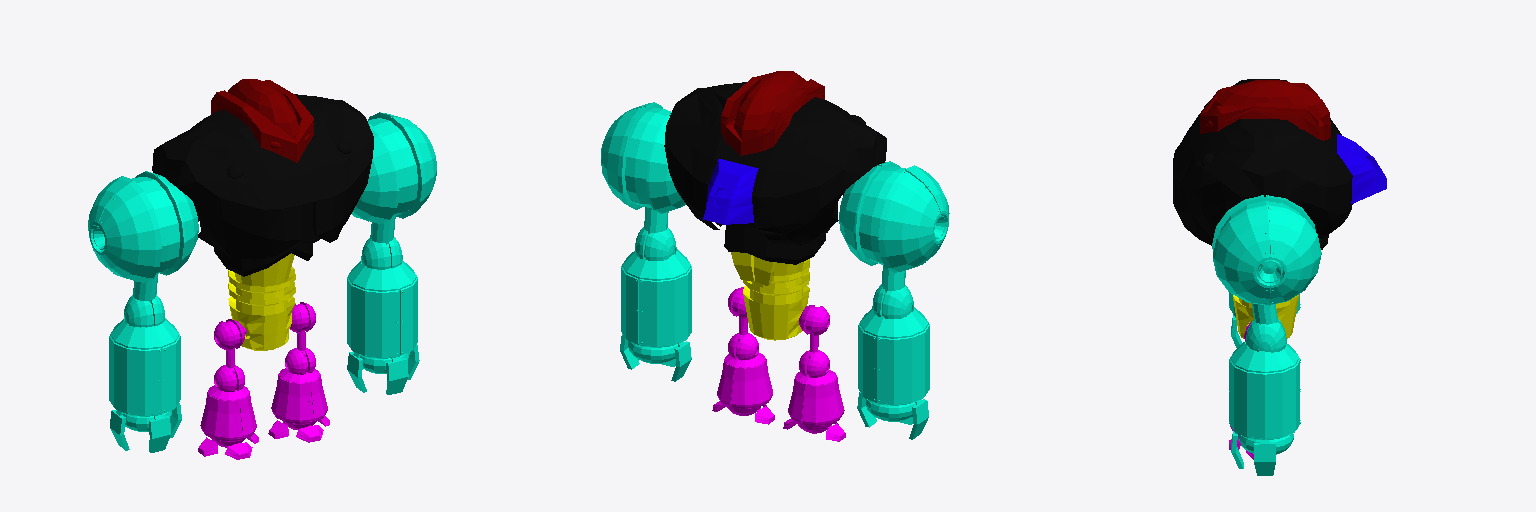
File: Robot_uv_paint_ready_1.obj
3 renders of one model, left to right at view 1: azimuth 30°, elevation 25°; view 2: azimuth 150°, elevation 25°; view 3: azimuth 270°, elevation 25°, orthographic.
Visible parts, largest first — view 1: Torso pCube3, arm2 pasted__pSphere16, arm3 pasted__pSphere16, arm2 pasted__pCylinder4, arm3 pasted__pCylinder4, lowerbody pasted__pCylinder11, pCube53 Head, legs pasted__pCylinder12, legs pasted__pCylinder8, Head pSphere1, Torso pPipe2, arm2 pasted__pSphere7 (+7 smaller); view 2: Torso pCube3, arm2 pasted__pSphere16, arm3 pasted__pSphere16, arm2 pasted__pCylinder4, arm3 pasted__pCylinder4, lowerbody pasted__pCylinder11, pCube53 Head, jetpack pCube4, Head pSphere1, legs pasted__pCylinder12, legs pasted__pCylinder8, Torso pPipe2 (+7 smaller); view 3: Torso pCube3, arm3 pasted__pSphere16, arm3 pasted__pCylinder4, pCube53 Head, Head pSphere1, jetpack pCube4, lowerbody pasted__pCylinder11, arm3 pasted__pSphere7, arm3 pasted__pCube20.
Boxes of the visible parts, x1,y1,x2,y2 form: Torso pCube3: [152, 94, 373, 259]; arm2 pasted__pSphere16: [88, 171, 198, 282]; arm3 pasted__pSphere16: [352, 112, 436, 223]; arm2 pasted__pCylinder4: [109, 318, 180, 416]; arm3 pasted__pCylinder4: [347, 260, 417, 358]; lowerbody pasted__pCylinder11: [228, 253, 295, 350]; pCube53 Head: [211, 80, 313, 162]; legs pasted__pCylinder12: [271, 368, 327, 423]; legs pasted__pCylinder8: [200, 385, 256, 441]; Head pSphere1: [228, 79, 298, 138]; Torso pPipe2: [214, 243, 312, 276]; arm2 pasted__pSphere7: [124, 294, 164, 327]; Torso pCube3: [664, 82, 886, 243]; arm2 pasted__pSphere16: [839, 161, 949, 272]; arm3 pasted__pSphere16: [601, 102, 685, 213]; arm2 pasted__pCylinder4: [858, 307, 929, 405]; arm3 pasted__pCylinder4: [621, 249, 691, 347]; lowerbody pasted__pCylinder11: [743, 259, 809, 340]; pCube53 Head: [721, 73, 824, 155]; jetpack pCube4: [703, 159, 758, 224]; Head pSphere1: [734, 71, 806, 140]; legs pasted__pCylinder12: [717, 352, 772, 408]; legs pasted__pCylinder8: [788, 370, 844, 425]; Torso pPipe2: [724, 224, 825, 264]; Torso pCube3: [1173, 79, 1352, 245]; arm3 pasted__pSphere16: [1212, 195, 1321, 304]; arm3 pasted__pCylinder4: [1229, 341, 1299, 439]; pCube53 Head: [1200, 80, 1330, 140]; Head pSphere1: [1208, 80, 1329, 122]; jetpack pCube4: [1337, 134, 1386, 203]; lowerbody pasted__pCylinder11: [1233, 295, 1299, 338]; arm3 pasted__pSphere7: [1246, 319, 1286, 352]; arm3 pasted__pCube20: [1254, 440, 1275, 475].
Bounding box in the file's own units: 65.55 × 66.15 × 36.63.